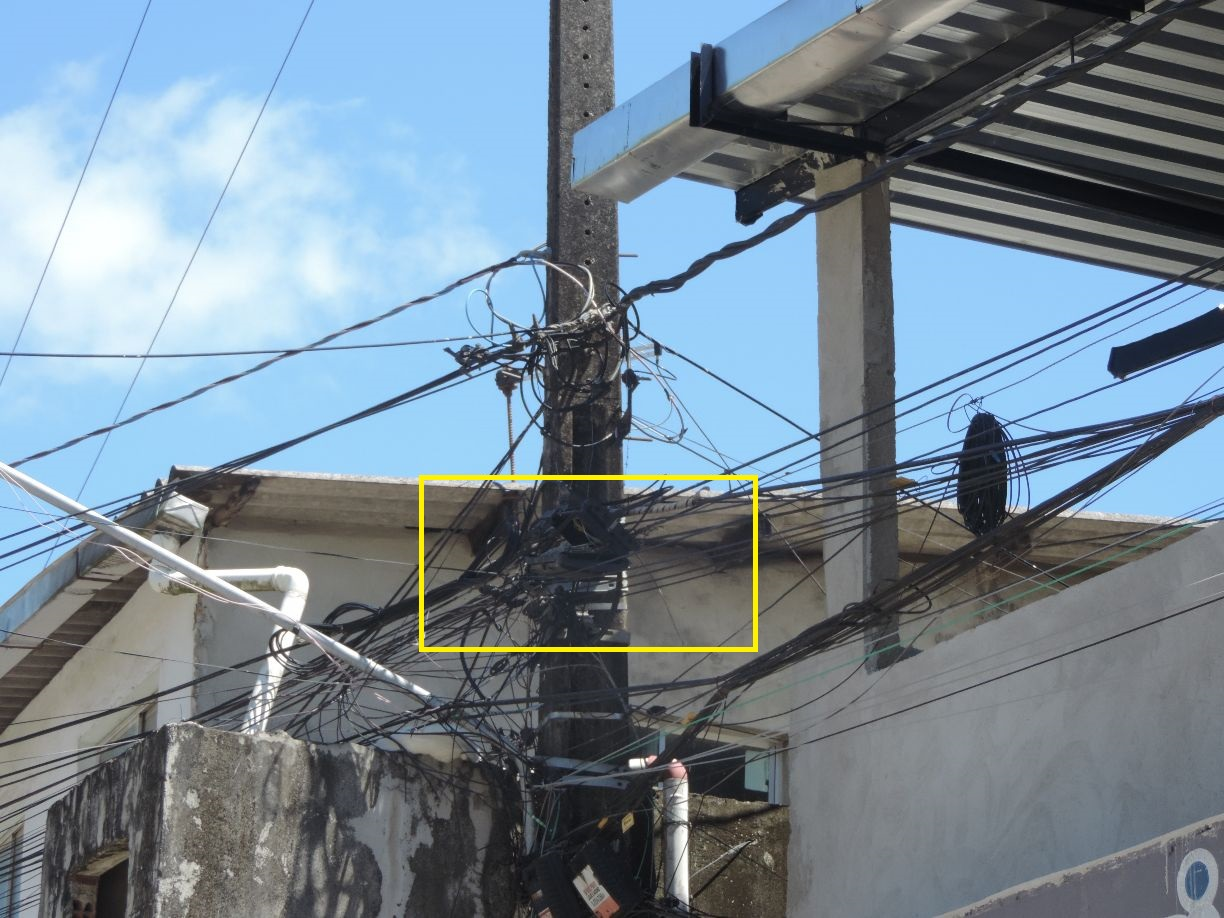caixa_derivacao: (528, 815, 654, 918)
drop: (510, 590, 553, 652)
reserva_tecnica: (948, 409, 1007, 532)
